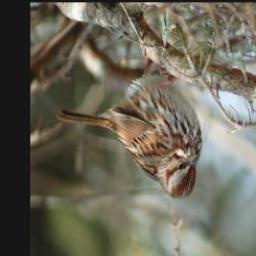Sparrow: (54, 45, 204, 204)
